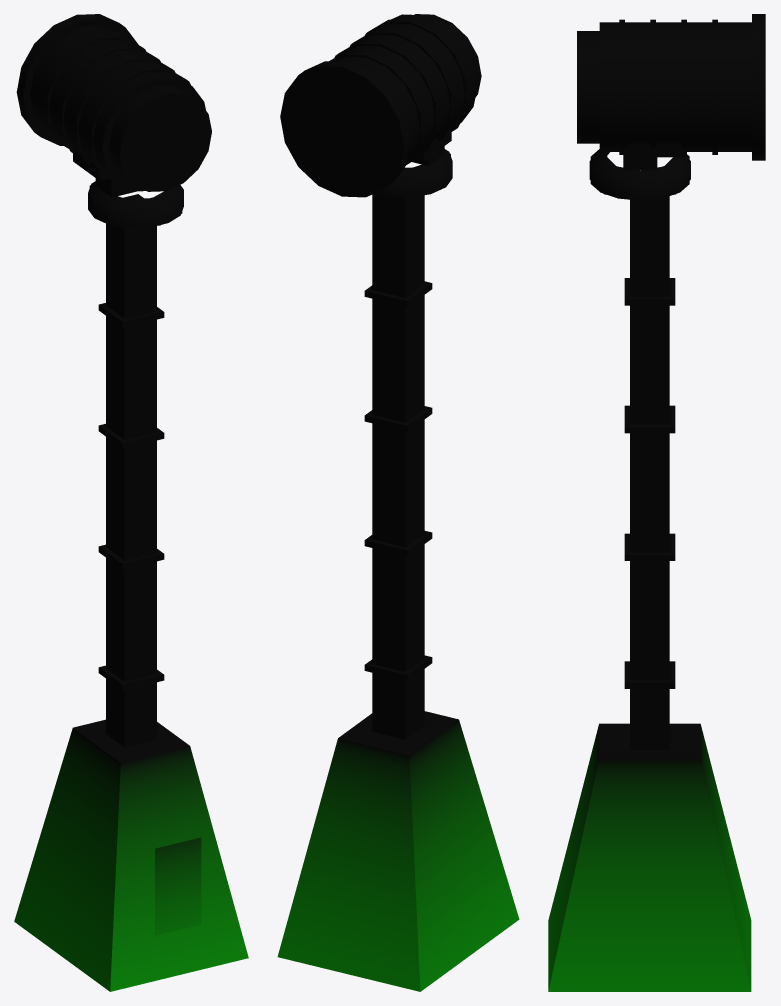
Rendered from spotlight.glb.
The picture shows the model from 3 angles, left to right: view 1: azimuth 30°, elevation 25°; view 2: azimuth 150°, elevation 25°; view 3: azimuth 270°, elevation 25°; orthographic projection. The views are drawn at different scales.
Visible parts, largest first — view 1: lod0_L_SpotLight, lod0_L_SpotBattery, lod0_L_SpotRotar, lod1_L_SpotBattery; view 2: lod0_L_SpotLight, lod0_L_SpotBattery, lod1_L_SpotBattery, lod0_L_SpotRotar; view 3: lod0_L_SpotLight, lod0_L_SpotBattery, lod0_L_SpotRotar.
Boxes of the visible parts, bbox=[...] form: lod0_L_SpotLight: bbox=[14, 194, 248, 991]; lod0_L_SpotBattery: bbox=[16, 14, 211, 191]; lod0_L_SpotRotar: bbox=[73, 150, 183, 227]; lod1_L_SpotBattery: bbox=[24, 20, 209, 189]; lod0_L_SpotLight: bbox=[277, 193, 519, 991]; lod0_L_SpotBattery: bbox=[280, 14, 481, 197]; lod1_L_SpotBattery: bbox=[280, 67, 403, 195]; lod0_L_SpotRotar: bbox=[375, 128, 452, 197]; lod0_L_SpotLight: bbox=[548, 196, 751, 991]; lod0_L_SpotBattery: bbox=[577, 14, 765, 160]; lod0_L_SpotRotar: bbox=[590, 143, 689, 200].
Bounding box in the file's own units: 3 × 18.3 × 3.87.
